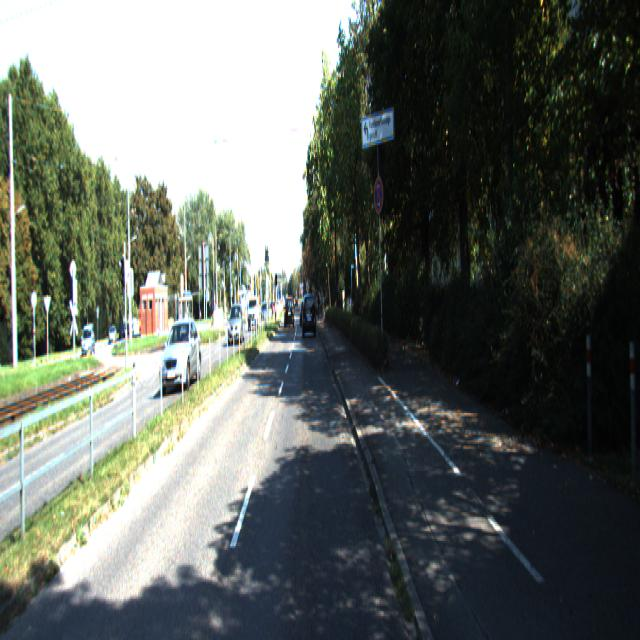Car: (159, 318, 203, 397), (228, 305, 245, 350), (302, 294, 316, 339)
